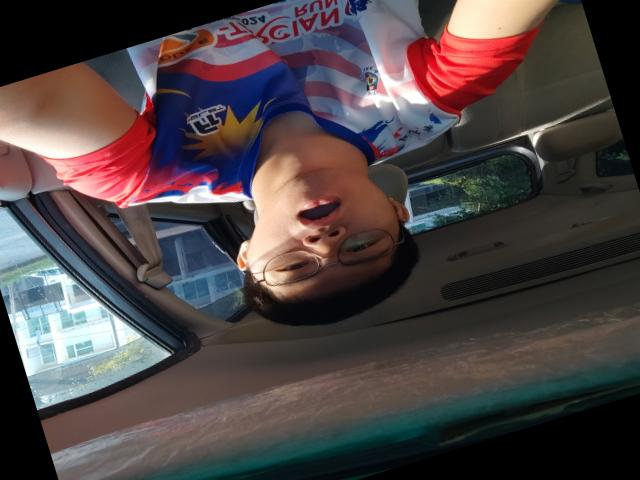eye_open: (337, 231, 388, 260), (272, 254, 315, 279)
face: (221, 149, 412, 309)
mouth_open: (286, 186, 354, 236)
